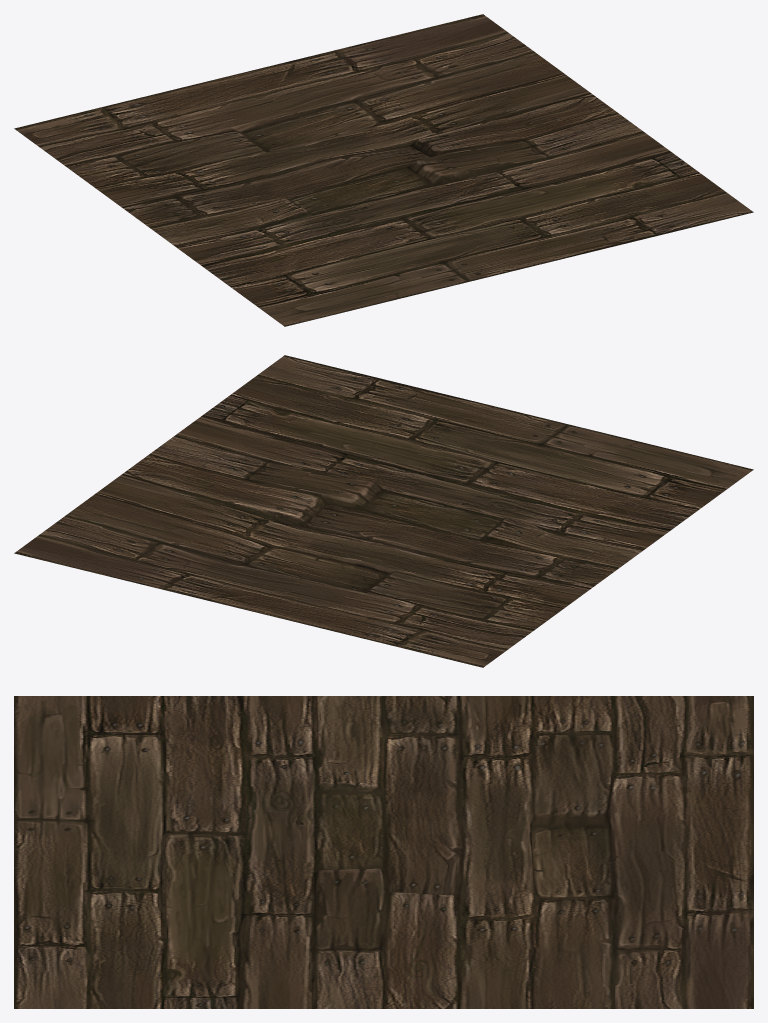
The model's file is tile_03.fbx.
3 renders of one model, top to bottom at view 1: azimuth 30°, elevation 25°; view 2: azimuth 150°, elevation 25°; view 3: azimuth 270°, elevation 25°, orthographic. The views are drawn at different scales.
Parts seen in each view (by area): view 1: tile_03; view 2: tile_03; view 3: tile_03.
Part boxes in pixels (bbox=[...]): tile_03: bbox=[14, 14, 753, 326]; tile_03: bbox=[14, 355, 753, 667]; tile_03: bbox=[14, 696, 753, 1008].
Size of the model in its own units: 100 by 2.84 by 100.
Materials: 1 (1 with a texture image).
